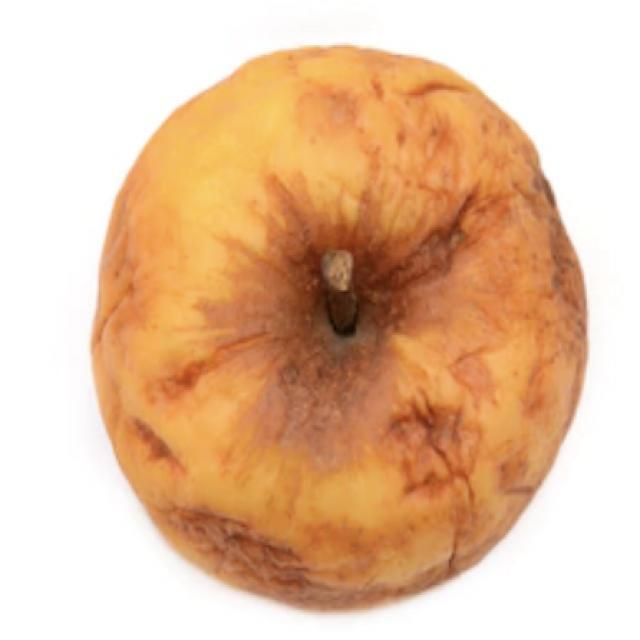Rotten: (90, 35, 597, 612)
